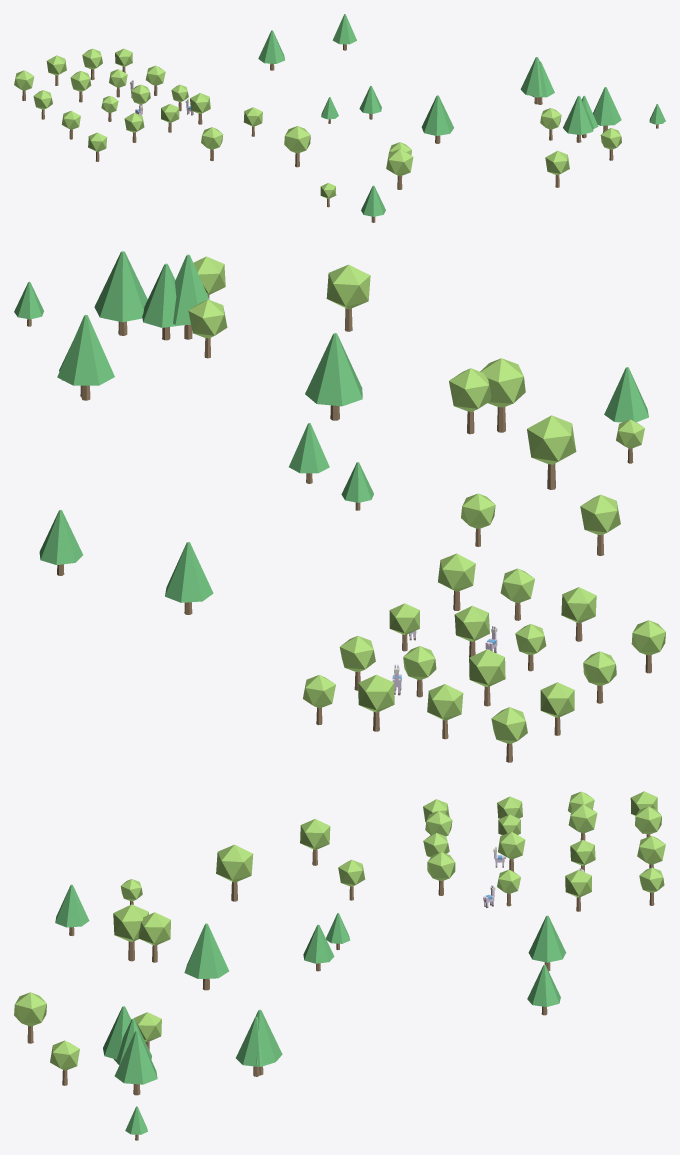
File: PropsQ_ws-transformed.glb
3 renders of one model, top to bottom at view 1: azimuth 30°, elevation 25°; view 2: azimuth 150°, elevation 25°; view 3: azimuth 270°, elevation 25°, orthographic. The views are drawn at different scales.
Visible parts, largest first — view 1: PropsQ_ws; view 2: PropsQ_ws; view 3: PropsQ_ws.
Part boxes in pixels (x1,y1,x2,y2): PropsQ_ws: (14,14,665,222); PropsQ_ws: (14,251,665,762); PropsQ_ws: (14,791,665,1140).
Size of the model in its own units: 118 by 15.31 by 103.
Materials: 1 (1 with a texture image).
